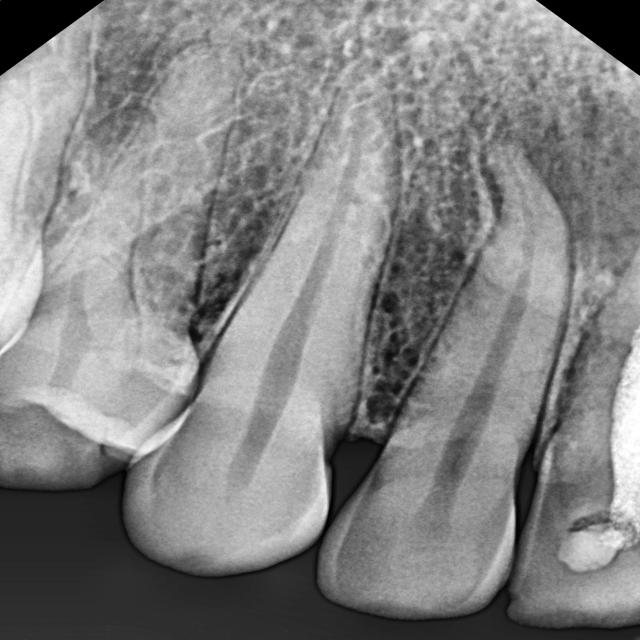Normal: (94, 61, 462, 600), (315, 134, 610, 640)
